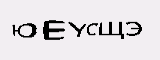Е: (43, 25, 62, 51)
К: (102, 32, 118, 56)
Р: (76, 31, 88, 54)
Т: (87, 34, 103, 55), (63, 28, 77, 50)
